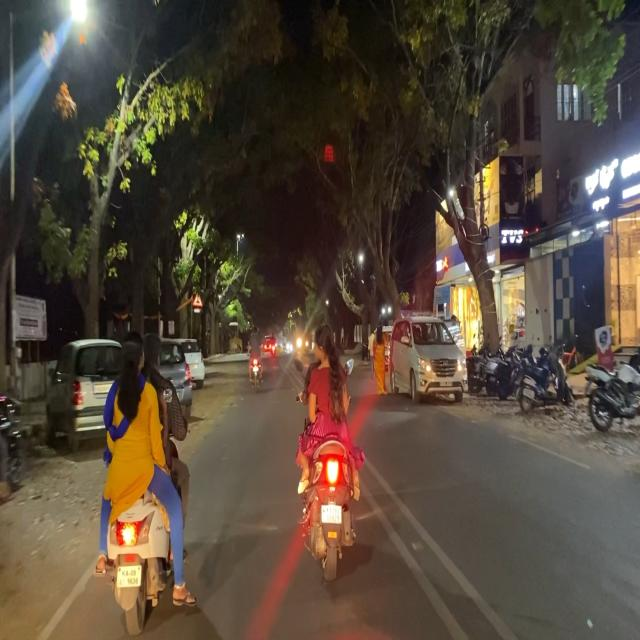bien_cam: (191, 287, 203, 310)
